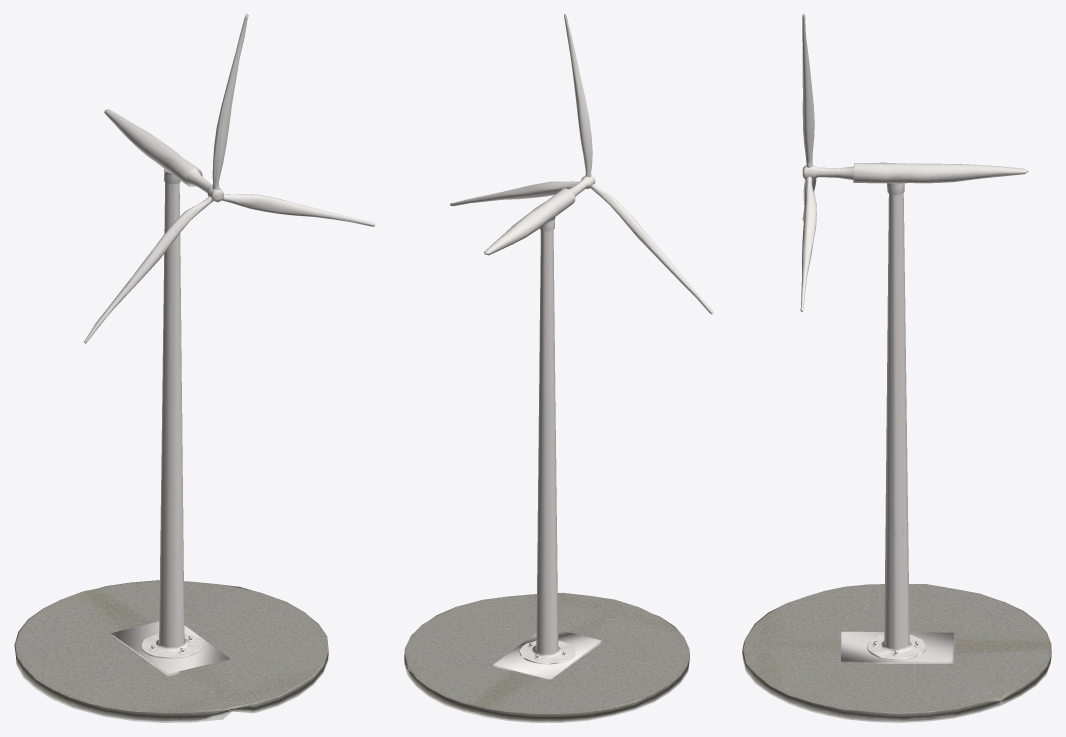
File: meshy-wind-turbine.glb
3 views of the same model, side by side, from view 1: azimuth 30°, elevation 25°; view 2: azimuth 150°, elevation 25°; view 3: azimuth 270°, elevation 25° (orthographic). The views are drawn at different scales.
Bounding box in the file's own units: 0.4538 × 1 × 0.4271.
1 material, 1 textured.
